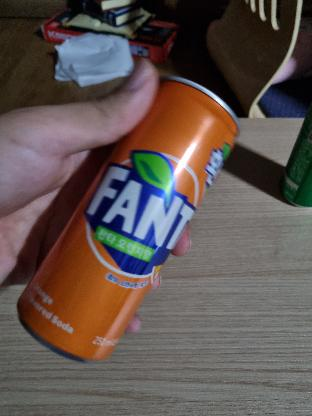Can: (11, 78, 242, 356)
